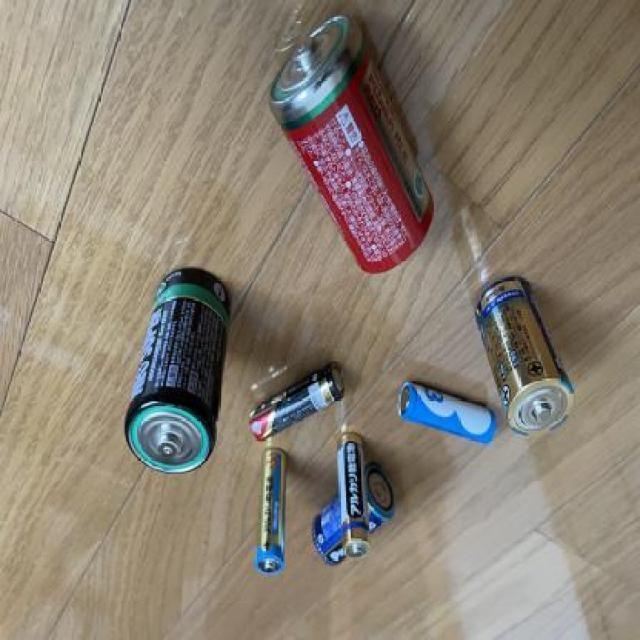AA: (249, 360, 349, 442), (394, 378, 497, 446)
AAA: (254, 446, 288, 579)
